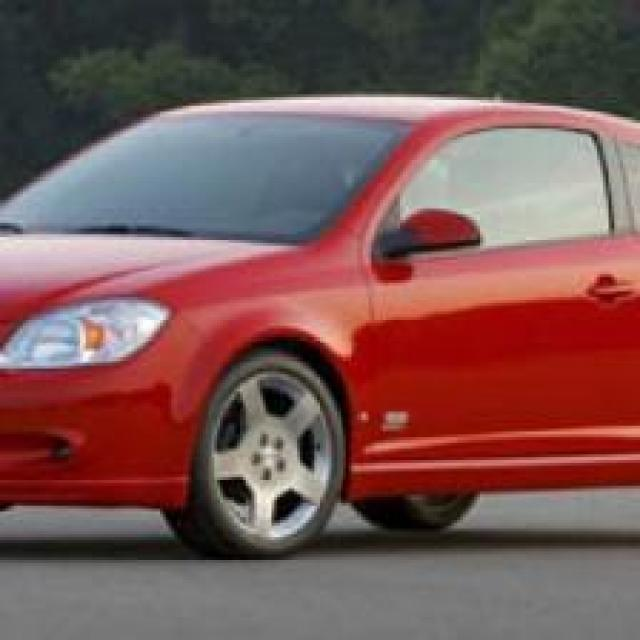damaged: (142, 351, 218, 446)
